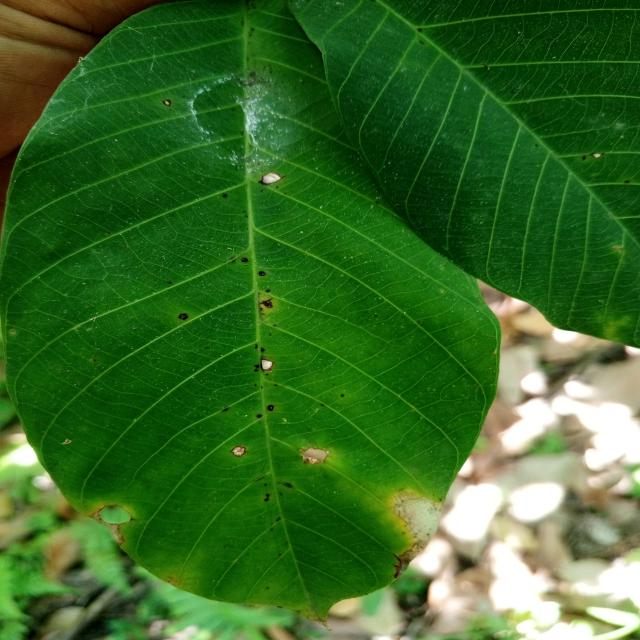Colletotrichum: (231, 446, 246, 456), (178, 313, 188, 319), (162, 100, 172, 106), (267, 405, 275, 411), (241, 257, 248, 262), (257, 414, 262, 418)
Leaf-Blight: (392, 492, 443, 578), (90, 512, 123, 544)
